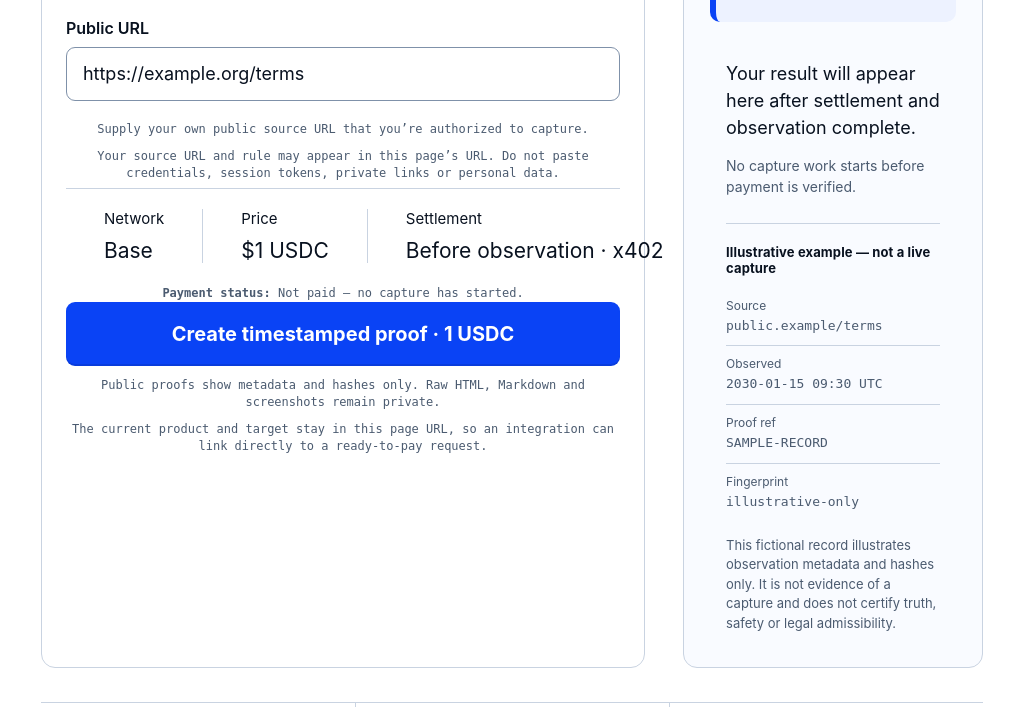
Scenario: Base app incomplete paid requests › allows retry after unsigned HTTP 402 without persisting a payment marker
(page scrolled)
Click the button "Create timestamped proof · 1 USDC" at coordinates (343, 334), box [66,302,620,366]
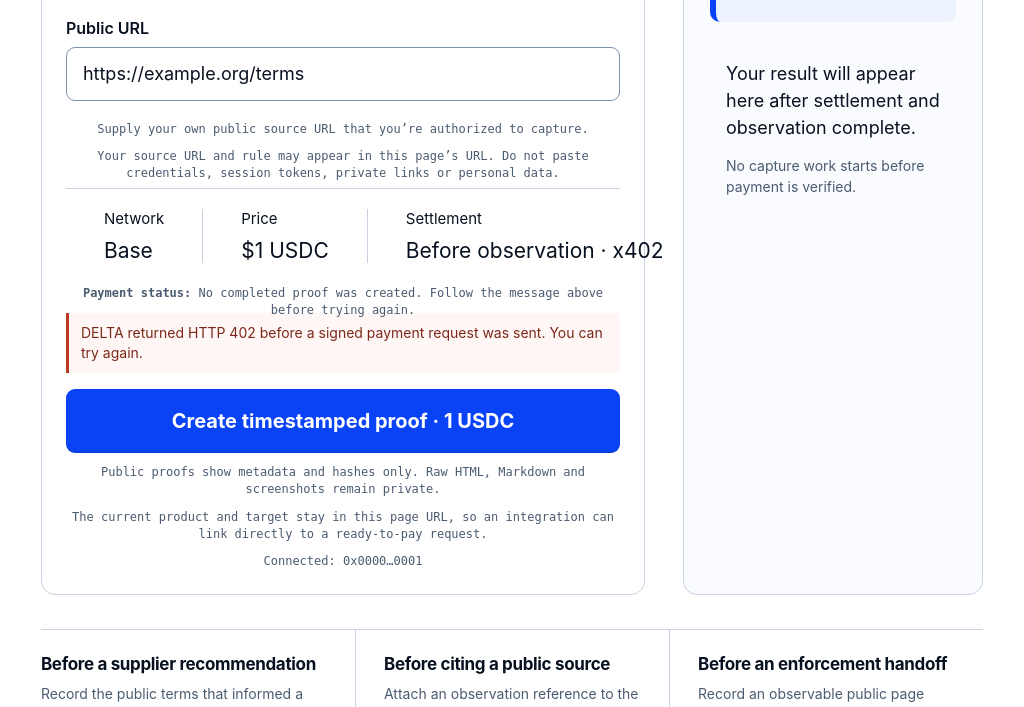
expect the button "Create timestamped proof · 1 USDC" is enabled: met, box [66,389,620,453]
expect the element with class "result-status" no longer shows "READY": met
expect the text "before a signed payment request was sent" is shown: met, box [81,324,603,361]
